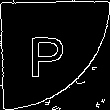P_N: (35, 29, 75, 81)
